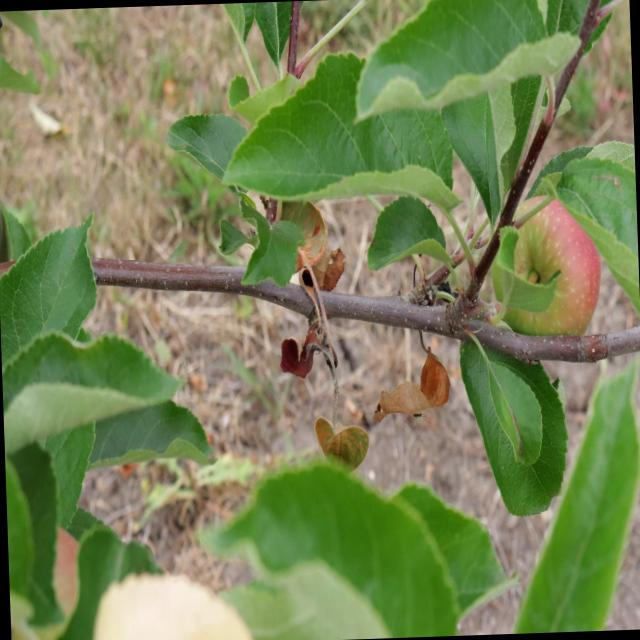-FireBlight-: (288, 213, 348, 375), (377, 308, 458, 418)
